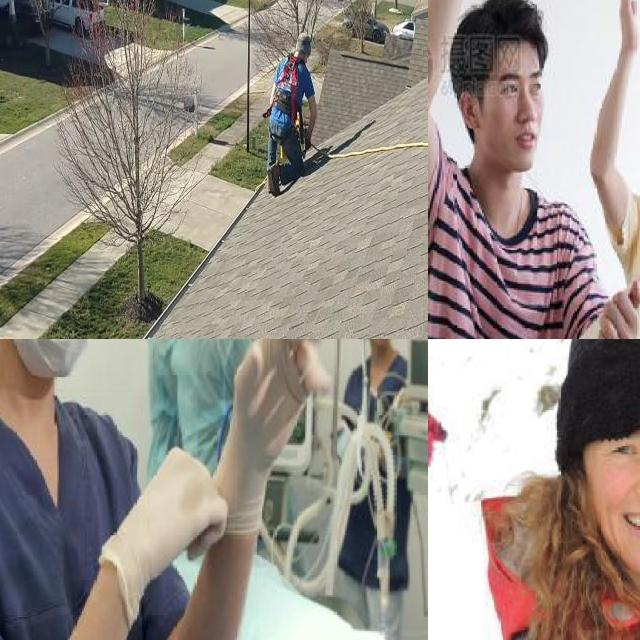Harness: (273, 55, 301, 122)
face_nomask: (490, 58, 540, 179), (601, 420, 640, 546)
hand_glove: (232, 339, 331, 484), (130, 445, 228, 586)
hand_noglove: (599, 279, 640, 339), (616, 0, 640, 48)
head_nohelmet: (542, 339, 640, 448), (460, 0, 551, 59)
person: (0, 339, 226, 640), (452, 339, 640, 640), (428, 0, 591, 339), (339, 339, 416, 640), (585, 0, 640, 339)
